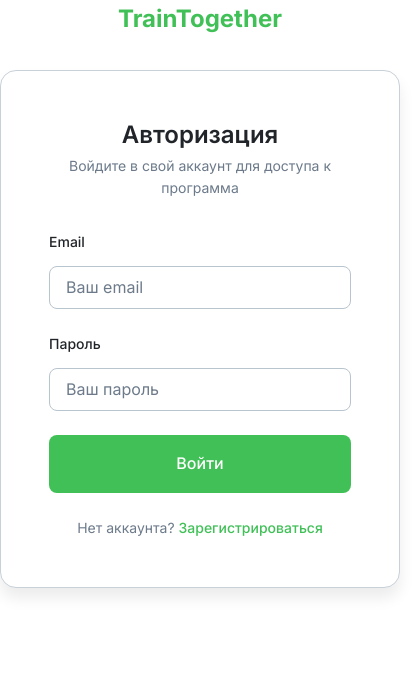
login form › email field is empty
This screenshot has width=417, height=688.
Type "password" into the password field labelled "Пароль" at {"x": 200, "y": 390}, box [49, 368, 351, 411]
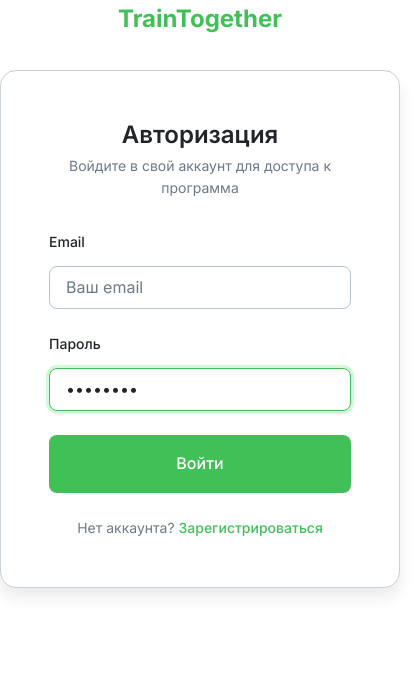
Click the button "Войти" at {"x": 200, "y": 464}, box [49, 435, 351, 493]
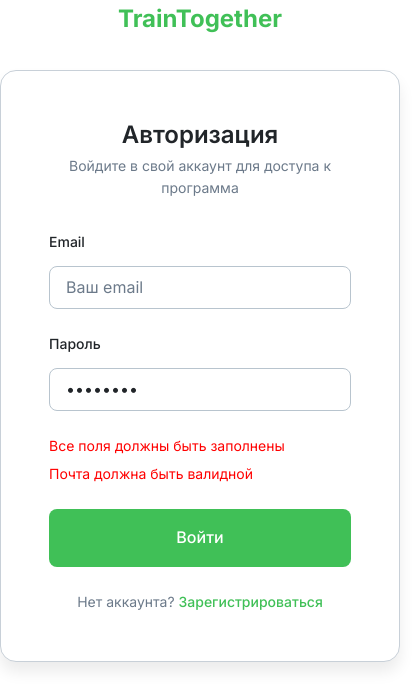
Expected: the text "Все поля должны быть заполнены" is shown, [49, 435, 285, 458]
Expected: the text "Почта должна быть валидной" is shown, [49, 463, 253, 485]
